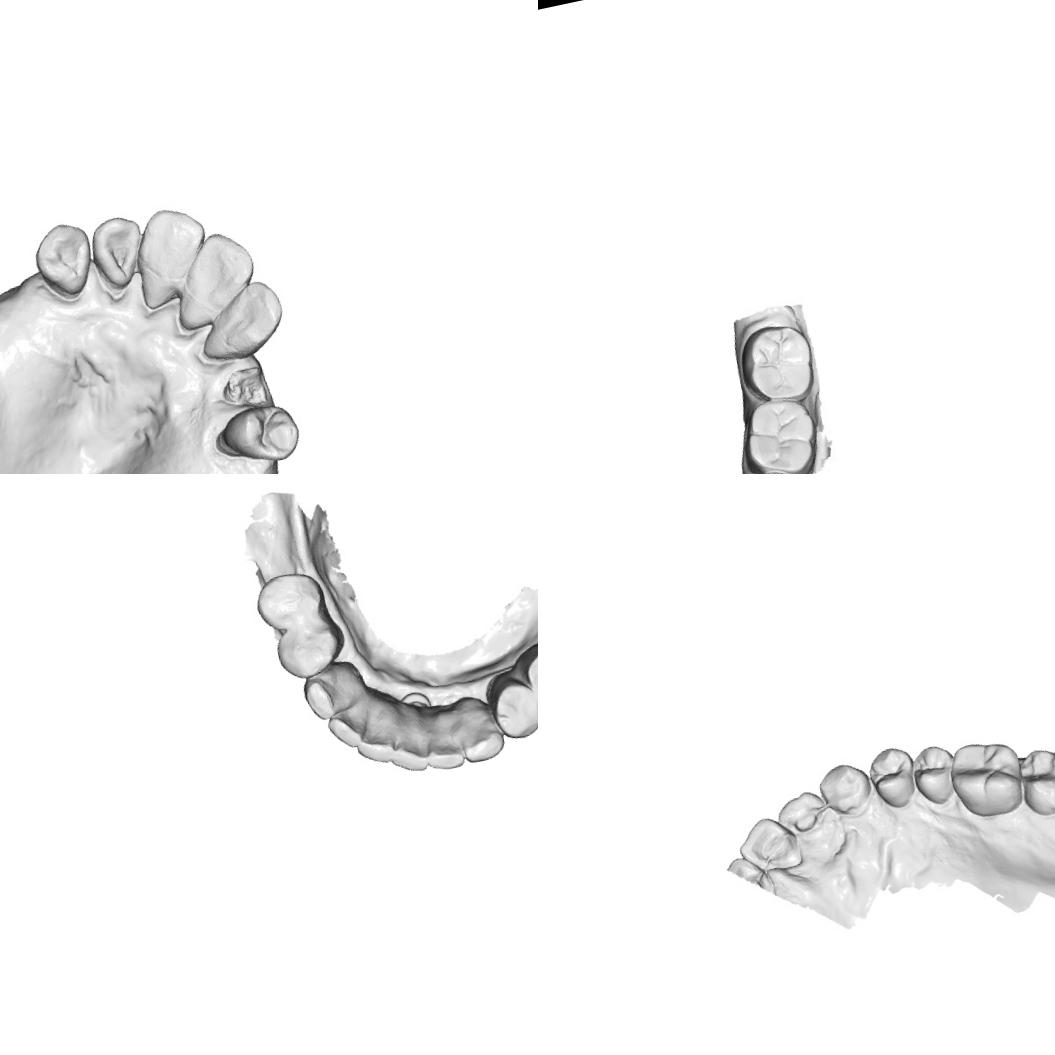canine: (27, 216, 102, 306), (816, 756, 881, 820), (298, 662, 361, 727), (456, 711, 510, 766)
incisor: (162, 225, 266, 334), (125, 198, 218, 312), (188, 274, 294, 369), (84, 210, 154, 296), (732, 811, 804, 880), (770, 784, 834, 842), (350, 714, 406, 770), (318, 702, 371, 756), (421, 724, 472, 777), (387, 726, 436, 779)
molar: (732, 317, 820, 409), (943, 733, 1031, 825), (738, 392, 825, 474), (1012, 739, 1055, 822)
premolar: (207, 396, 305, 474), (250, 566, 329, 636), (272, 615, 348, 684), (863, 742, 923, 814), (907, 739, 964, 809), (486, 677, 538, 741), (517, 639, 538, 711)
